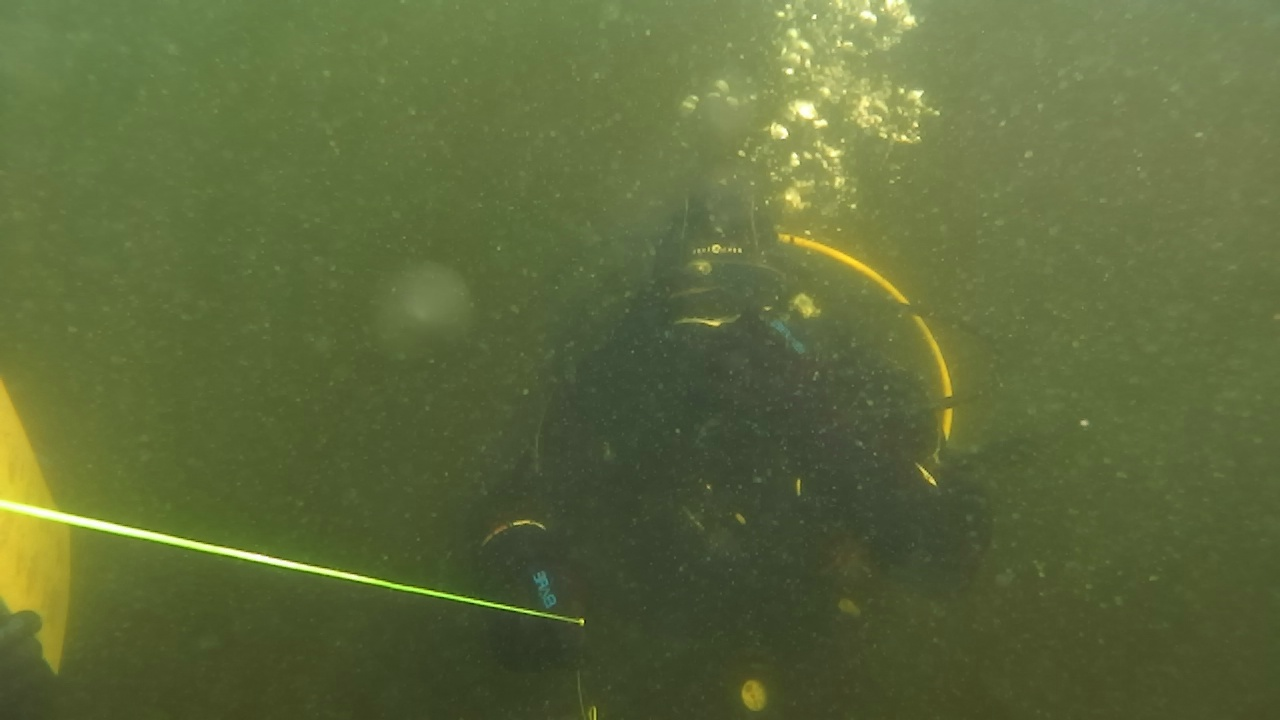Diver: (404, 132, 1106, 718)
